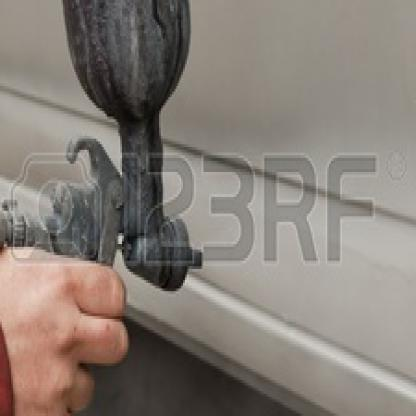gun: (0, 128, 202, 400)
